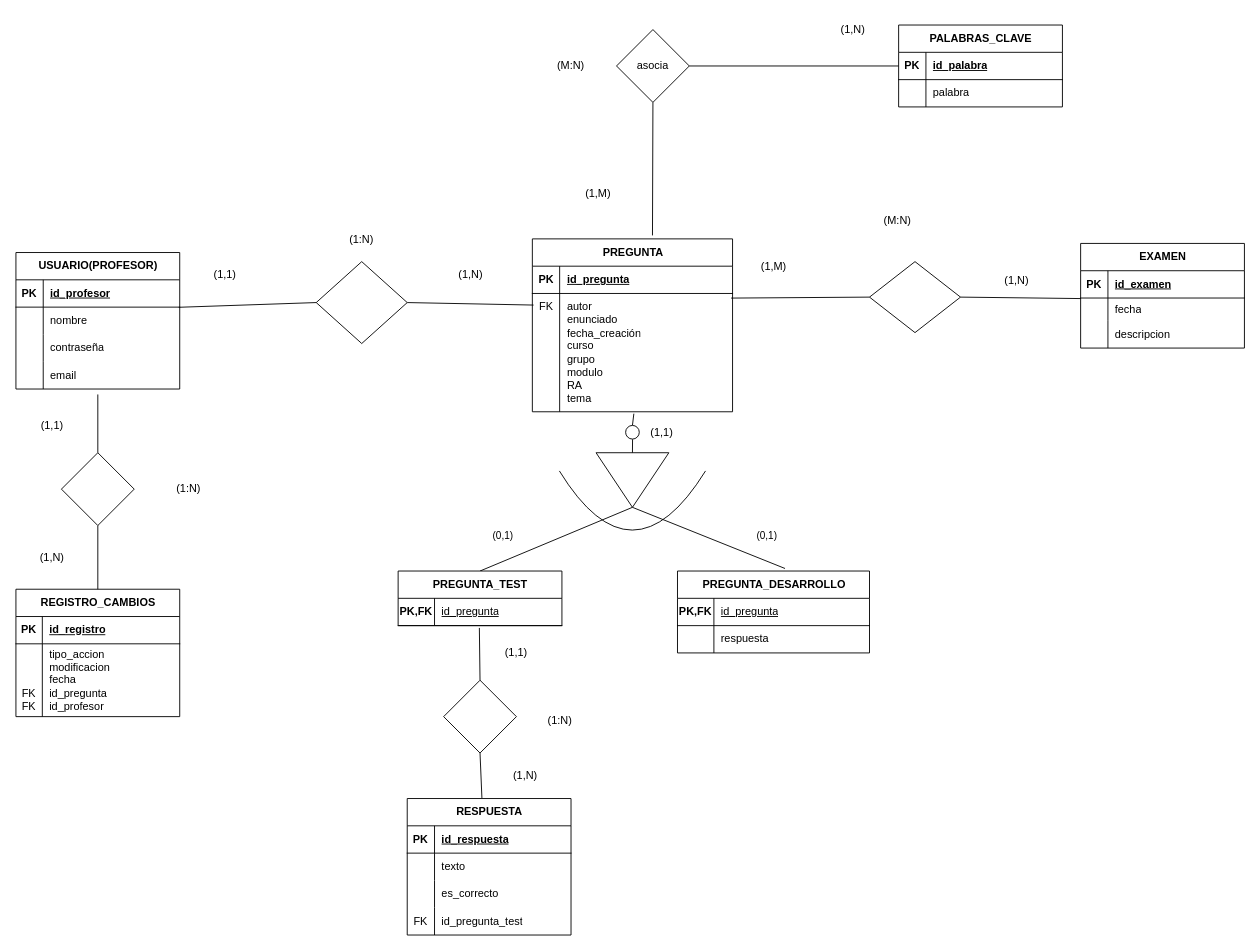
Some shapes in this 1260 by 951 pixel diagram are drawn without their labels. Each missing label, with the centre of its shape:
contiene: (x=915, y=297)
crea: (x=361, y=302)
realiza: (x=97, y=489)
tiene: (x=479, y=716)
